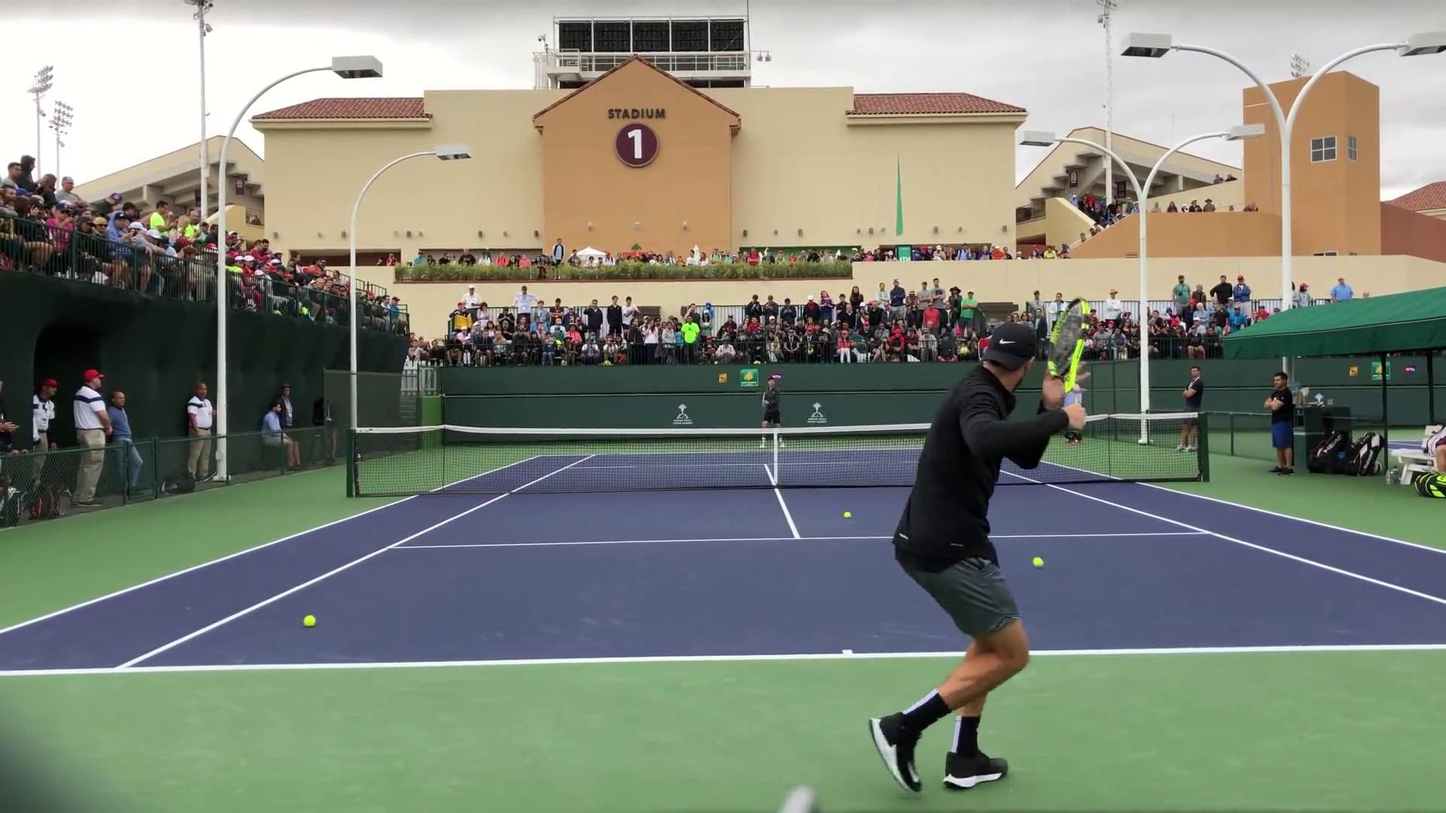ball: (1031, 557, 1046, 568), (302, 615, 317, 626), (843, 512, 851, 518)
